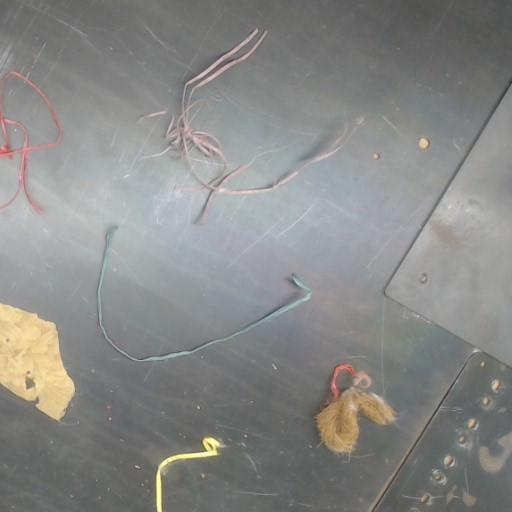jute: (315, 365, 395, 453)
thread: (97, 225, 310, 361), (194, 129, 354, 223), (166, 29, 266, 159), (0, 71, 62, 212)
